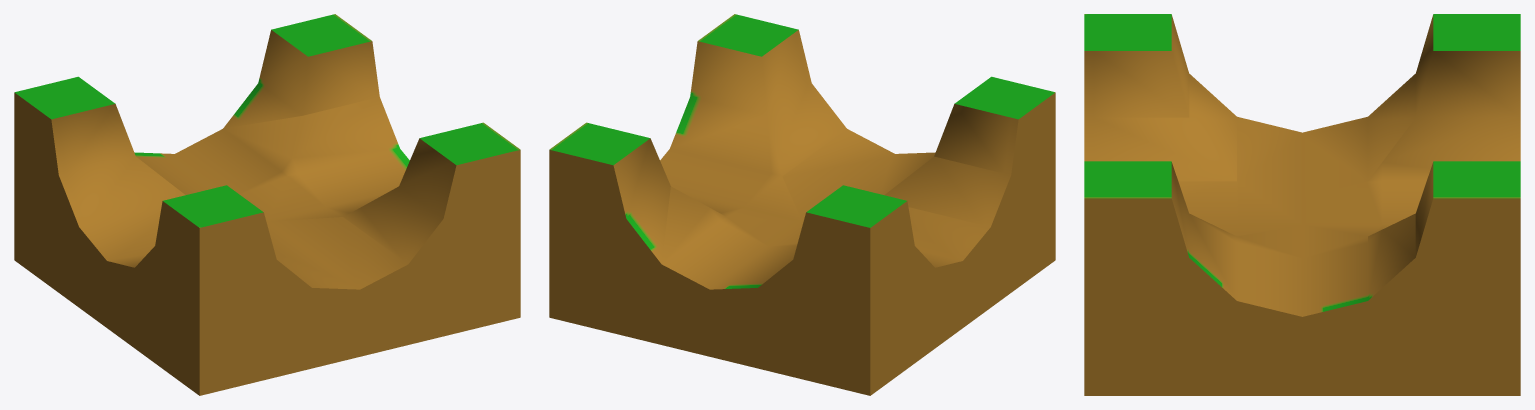
File: cross.fbx
3 views of the same model, side by side, from view 1: azimuth 30°, elevation 25°; view 2: azimuth 150°, elevation 25°; view 3: azimuth 270°, elevation 25° (orthographic). The views are drawn at different scales.
Parts seen in each view (by area): view 1: Cube_1_1.035; view 2: Cube_1_1.035; view 3: Cube_1_1.035.
Part boxes in pixels (x1=…): Cube_1_1.035: x1=14, y1=14, x2=520, y2=395; Cube_1_1.035: x1=549, y1=14, x2=1055, y2=395; Cube_1_1.035: x1=1084, y1=14, x2=1520, y2=395.
Size of the model in its own units: 200 by 100 by 200.
